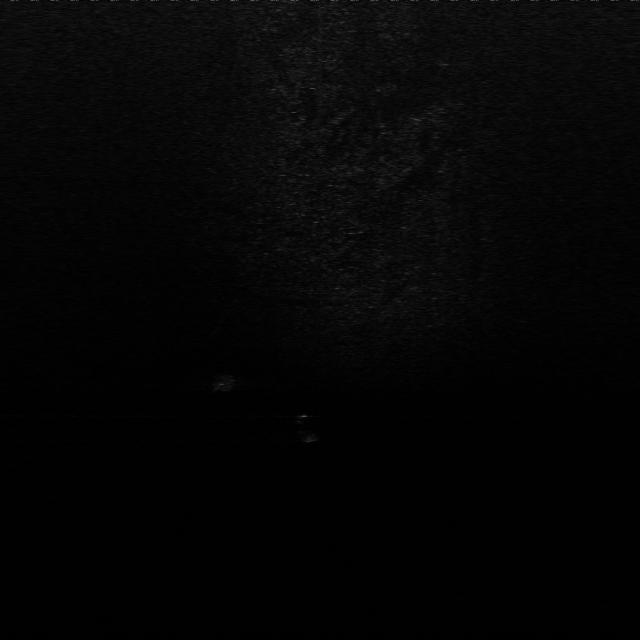circle cage: (203, 370, 243, 395)
tyre: (283, 410, 329, 448)
